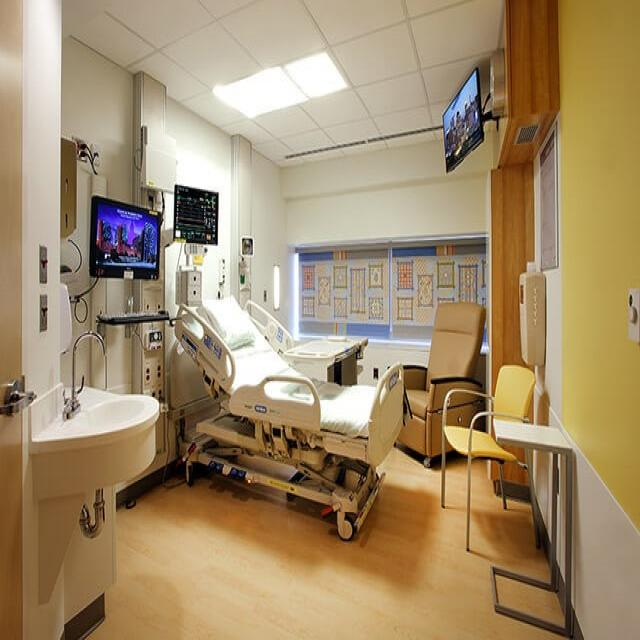cardiac_monitor: (95, 199, 164, 285), (176, 180, 225, 251)
patient_bed: (191, 299, 399, 508)
